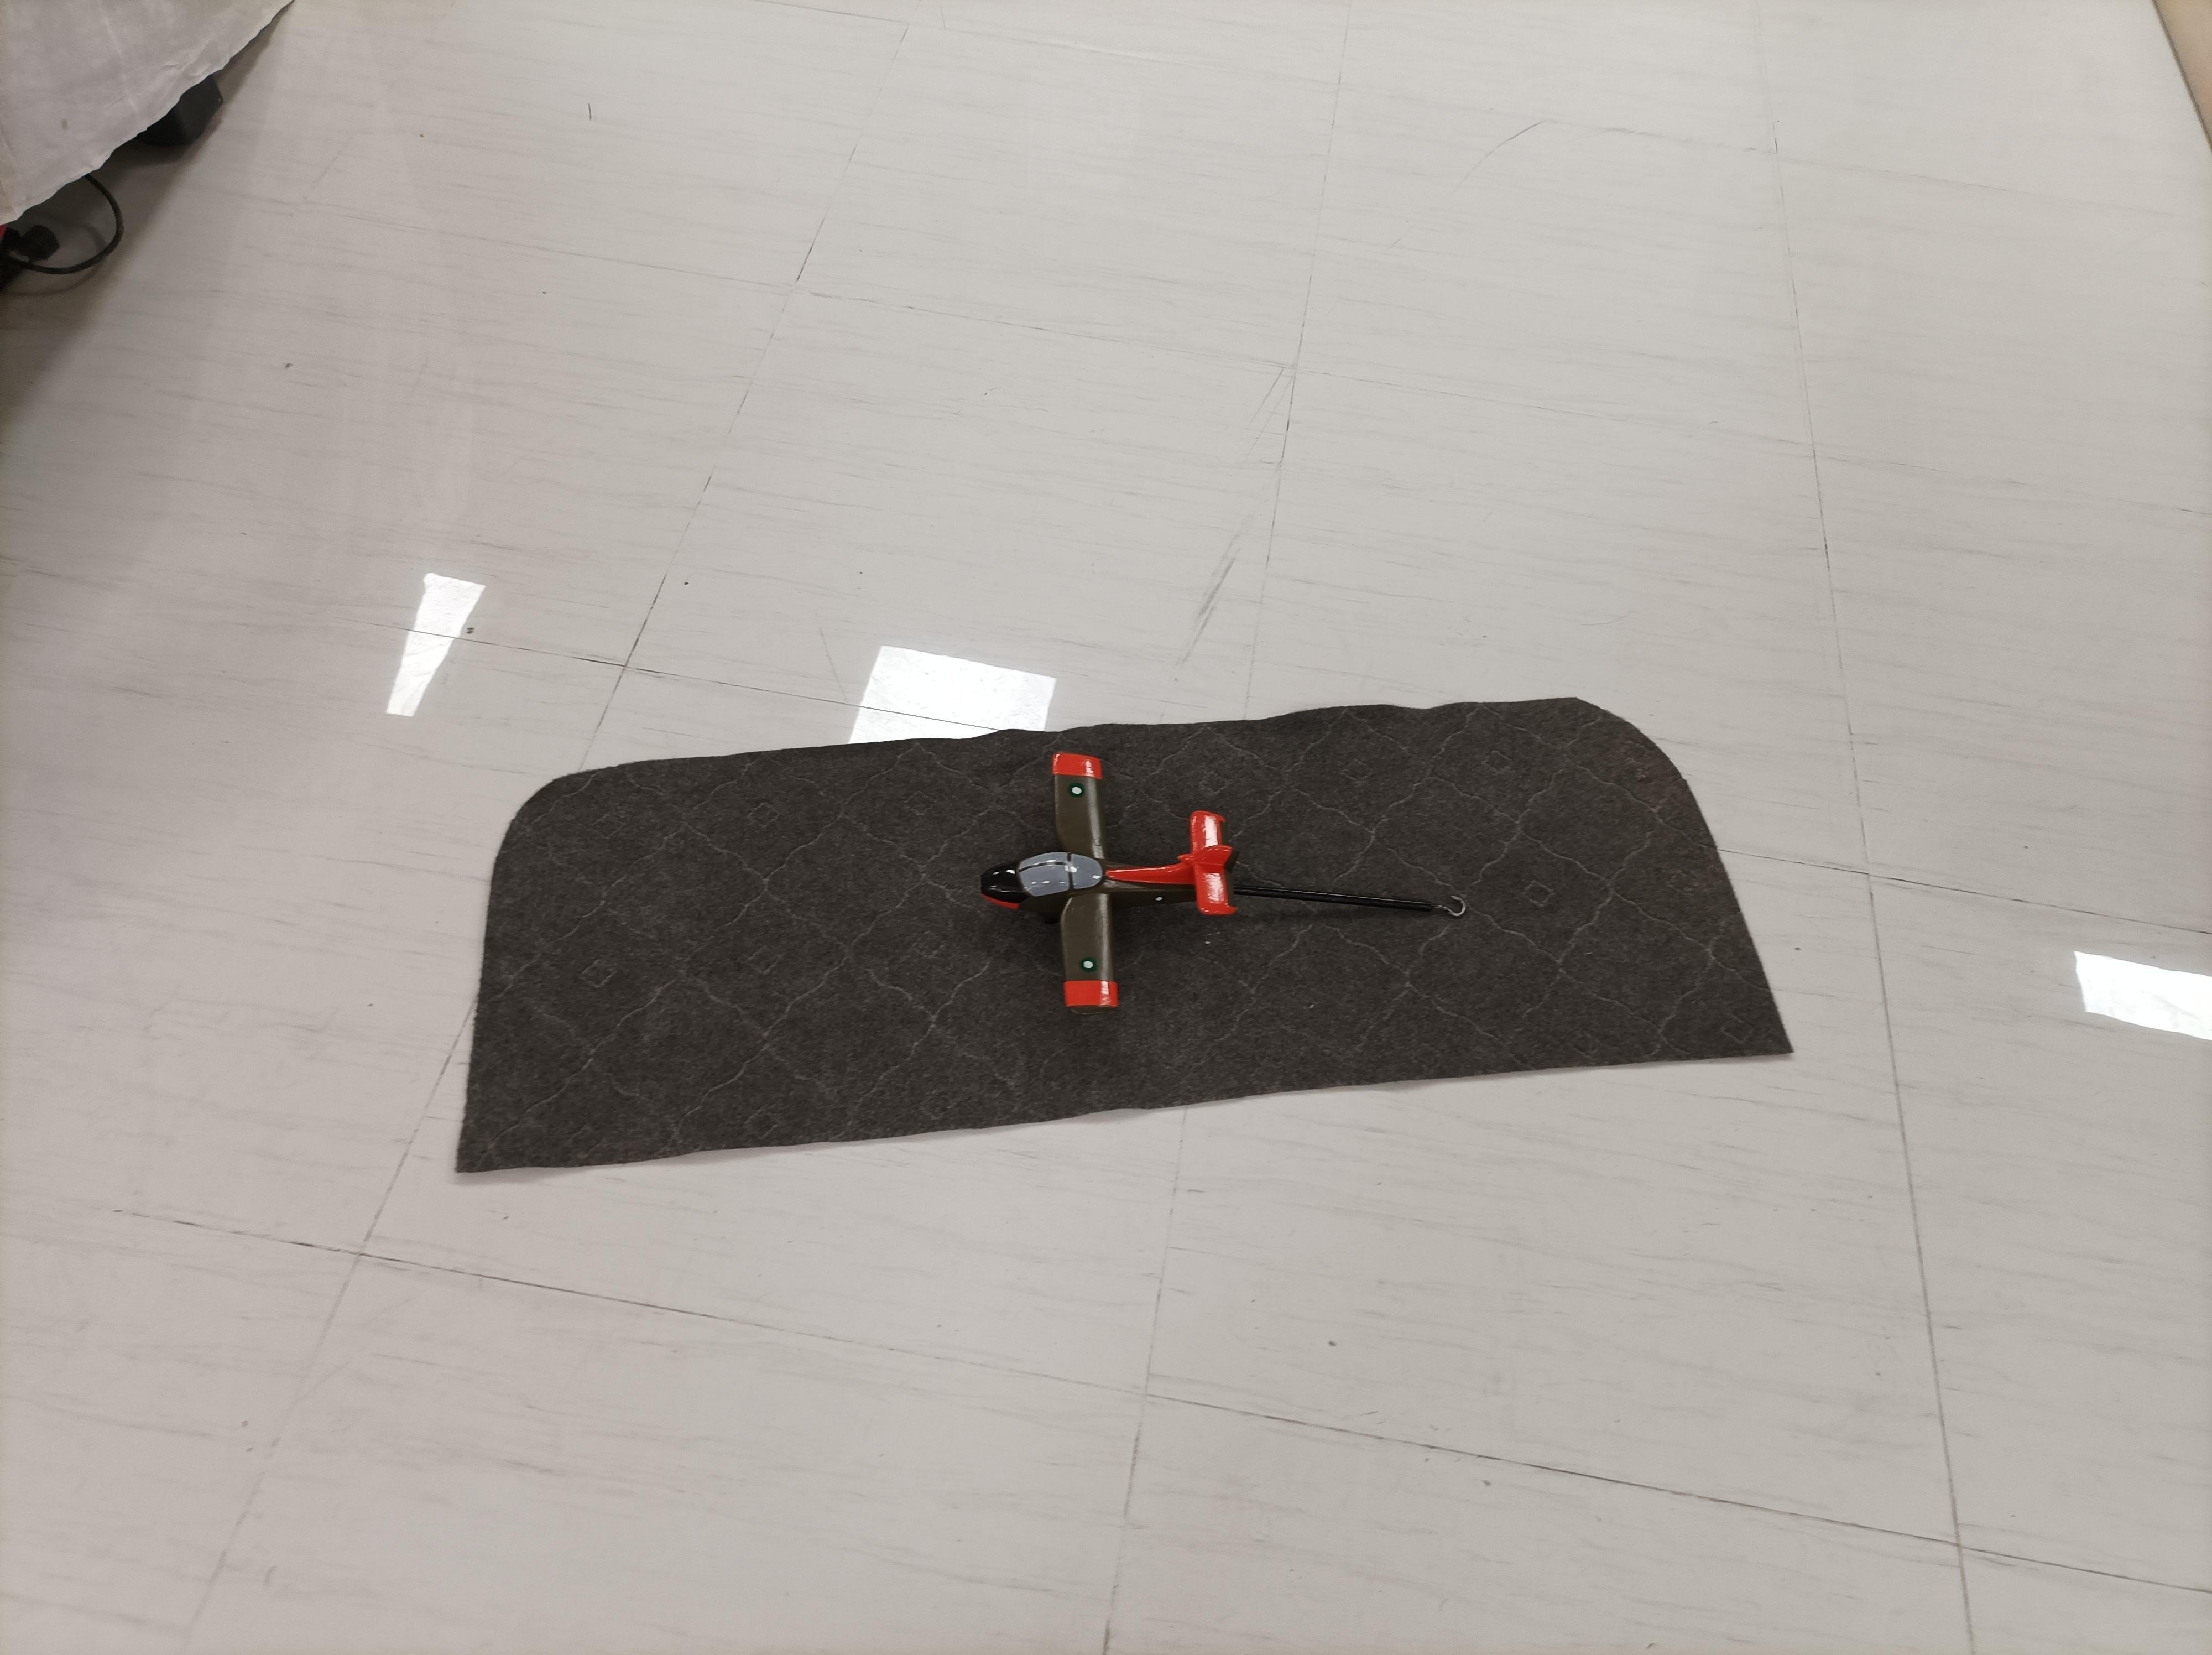Airplane: (978, 735, 1258, 1040)
